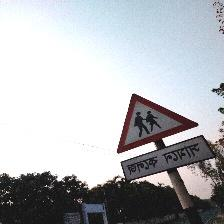College-in-front: (106, 84, 220, 217)
